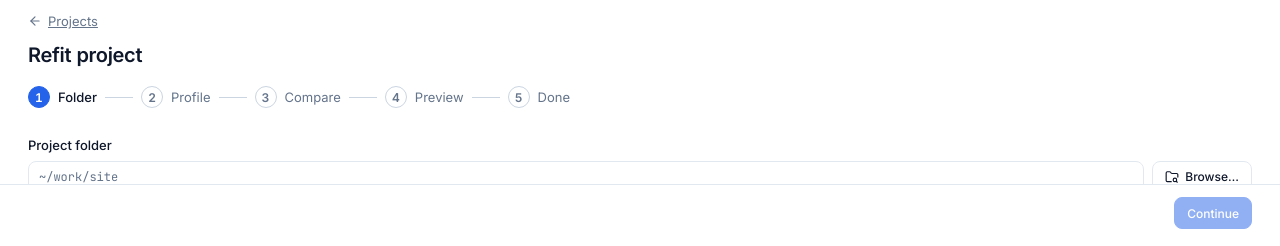
Test: Refit flow › Browse fills in the chosen folder
The image size is (1280, 246).
Click the button "Browse…": (1202, 177) [1152,161,1252,193]
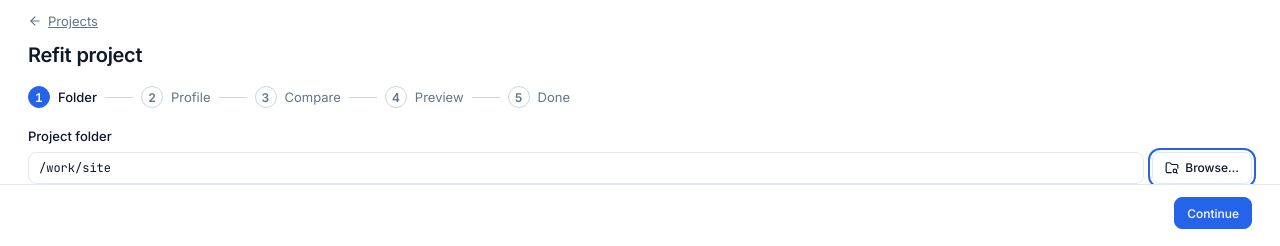
Expected: the field labelled "Project folder" holds "/work/site", [28,152,1144,184]
